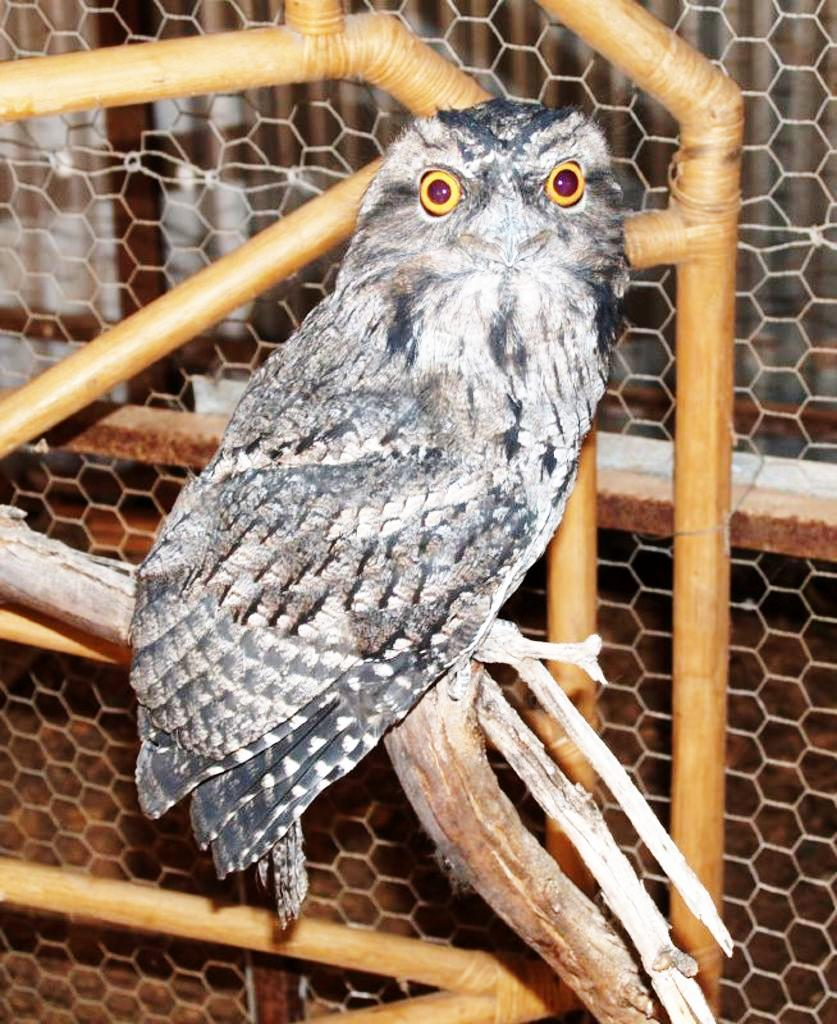Owl: (128, 96, 632, 934)
